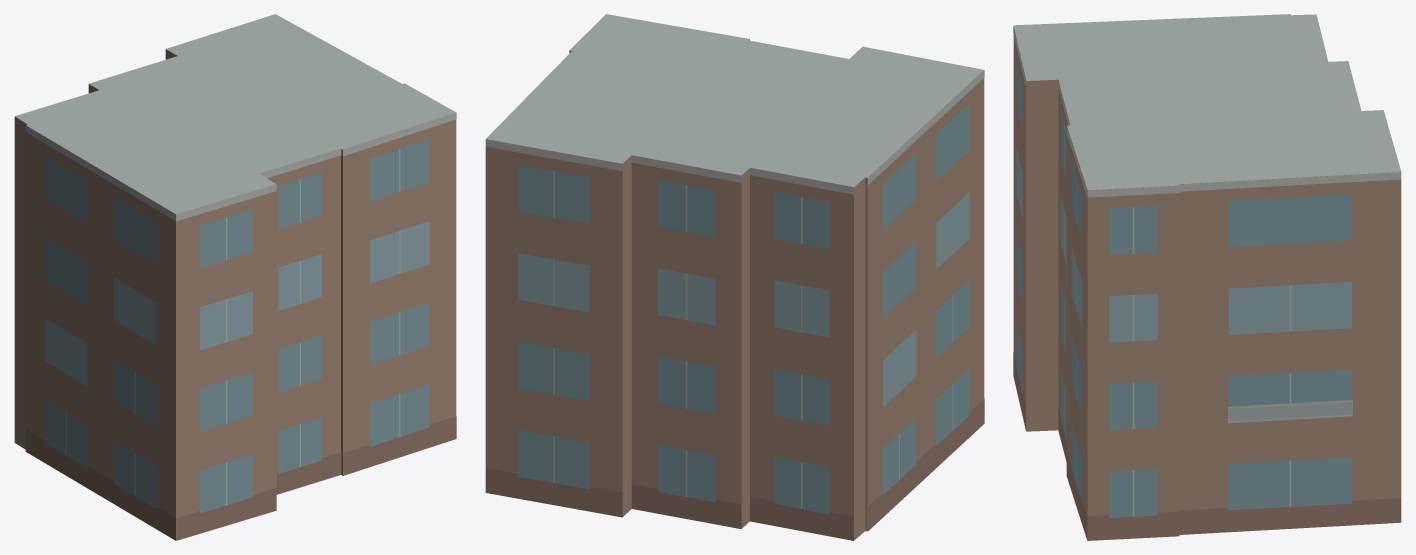
Rendered from survey-upis-32745860.glb.
The picture shows the model from 3 angles, left to right: view 1: azimuth 30°, elevation 25°; view 2: azimuth 150°, elevation 25°; view 3: azimuth 270°, elevation 25°; orthographic projection. The views are drawn at different scales.
Visible parts, largest first — view 1: survey-upis-32745860.tmp; view 2: survey-upis-32745860.tmp; view 3: survey-upis-32745860.tmp.
Boxes of the visible parts, box(x1,y1,x2,y2) form: survey-upis-32745860.tmp: box(14, 14, 456, 540); survey-upis-32745860.tmp: box(485, 14, 984, 540); survey-upis-32745860.tmp: box(1013, 14, 1401, 540).
Size of the model in its own units: 12.4 by 11.5 by 11.54.
